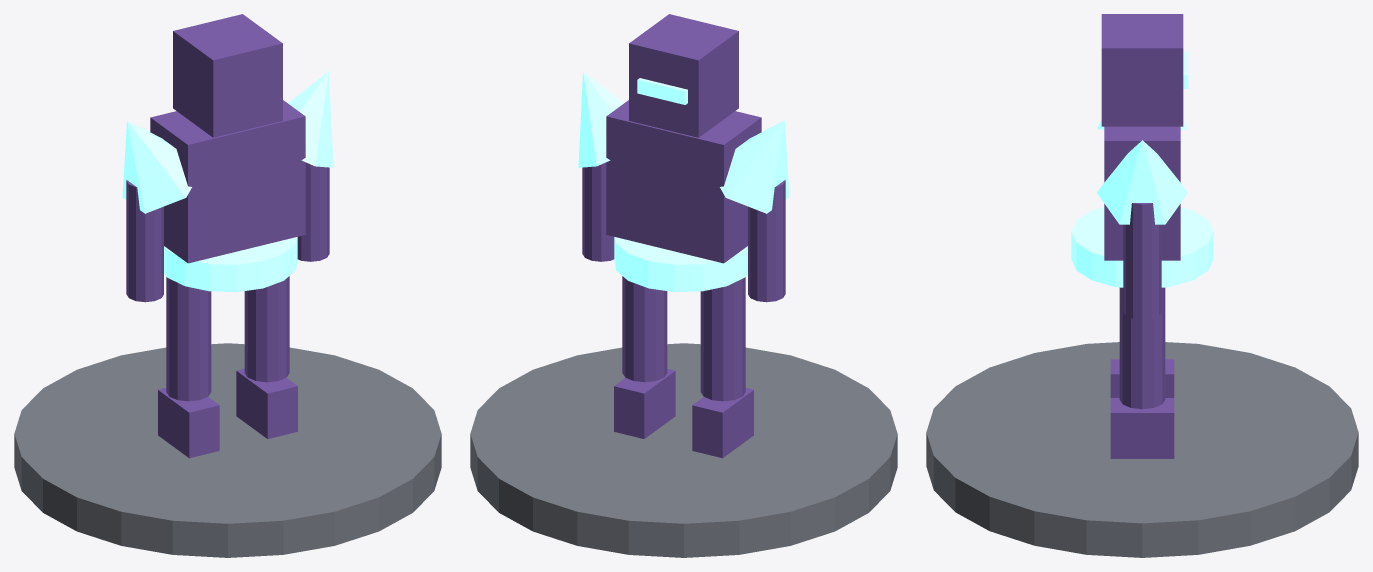
The model's file is armor_set_grand_soul.glb.
3 renders of one model, left to right at view 1: azimuth 30°, elevation 25°; view 2: azimuth 150°, elevation 25°; view 3: azimuth 270°, elevation 25°, orthographic.
Parts seen in each view (by area): view 1: Cylinder, Cube.002, Cube.003, Cylinder.001, Cylinder.003, Cylinder.002, Cone, Cylinder.004, Cube, Cube.001, Cylinder.005, Cone.001; view 2: Cylinder, Cube.002, Cube.003, Cylinder.001, Cylinder.003, Cylinder.002, Cone, Cylinder.004, Cube, Cube.001, Cylinder.005, Cone.001 (+1 smaller); view 3: Cylinder, Cube.003, Cylinder.003, Cylinder.002, Cube.002, Cone.001, Cylinder.005, Cube.001, Cube.
Part boxes in pixels (<box>): Cylinder: <box>14,343,441,557</box>; Cube.002: <box>150,100,305,263</box>; Cube.003: <box>173,14,282,137</box>; Cylinder.001: <box>166,277,211,401</box>; Cylinder.003: <box>164,237,297,292</box>; Cylinder.002: <box>244,276,289,382</box>; Cone: <box>122,120,191,213</box>; Cylinder.004: <box>126,180,163,302</box>; Cube: <box>158,388,219,458</box>; Cube.001: <box>236,368,297,438</box>; Cylinder.005: <box>297,162,329,261</box>; Cone.001: <box>288,71,333,167</box>; Cylinder: <box>470,343,897,557</box>; Cube.002: <box>606,100,761,263</box>; Cube.003: <box>629,14,738,137</box>; Cylinder.001: <box>700,277,745,401</box>; Cylinder.003: <box>614,237,747,292</box>; Cylinder.002: <box>622,276,667,382</box>; Cone: <box>720,120,789,213</box>; Cylinder.004: <box>748,180,785,302</box>; Cube: <box>692,388,753,458</box>; Cube.001: <box>614,368,675,438</box>; Cylinder.005: <box>582,162,614,261</box>; Cone.001: <box>578,71,623,167</box>; Cylinder: <box>926,342,1358,557</box>; Cube.003: <box>1101,14,1183,126</box>; Cylinder.003: <box>1071,207,1213,287</box>; Cylinder.002: <box>1119,287,1165,409</box>; Cube.002: <box>1104,126,1180,260</box>; Cone.001: <box>1097,140,1187,224</box>; Cylinder.005: <box>1123,203,1161,319</box>; Cube.001: <box>1110,398,1174,458</box>; Cube: <box>1110,359,1174,397</box>.
Bounding box in the file's own units: 1.7 × 1.89 × 1.7.
